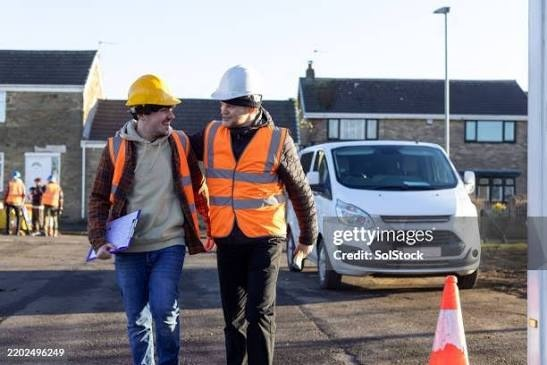hardhat: (205, 59, 265, 98), (125, 70, 180, 110)
no_hardhat: (44, 174, 57, 185), (34, 175, 40, 190)
no_safety_vest: (28, 185, 46, 214)
person: (75, 62, 204, 357), (194, 68, 323, 360), (41, 174, 69, 239), (5, 169, 29, 238), (28, 171, 44, 241)
safety_cone: (423, 272, 470, 339)
safety_vest: (101, 127, 193, 273), (205, 117, 301, 252), (44, 182, 64, 211), (9, 181, 26, 207)
